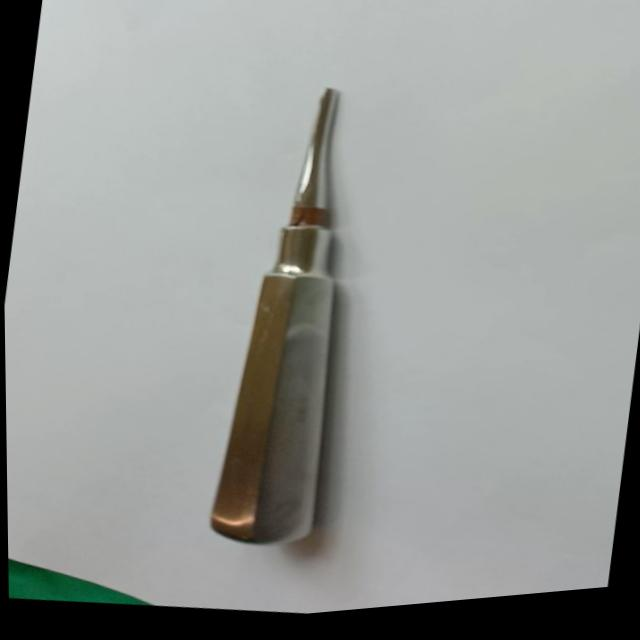Coupland1: (191, 73, 383, 566)
